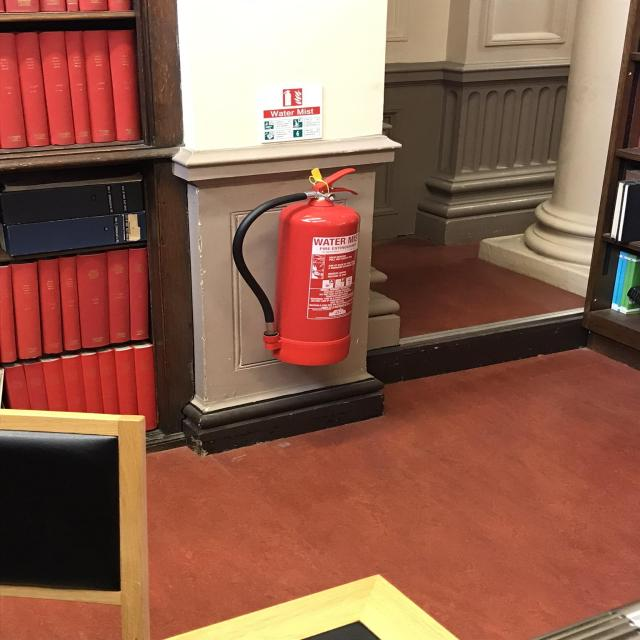fire_extinguisher: (232, 162, 366, 367)
